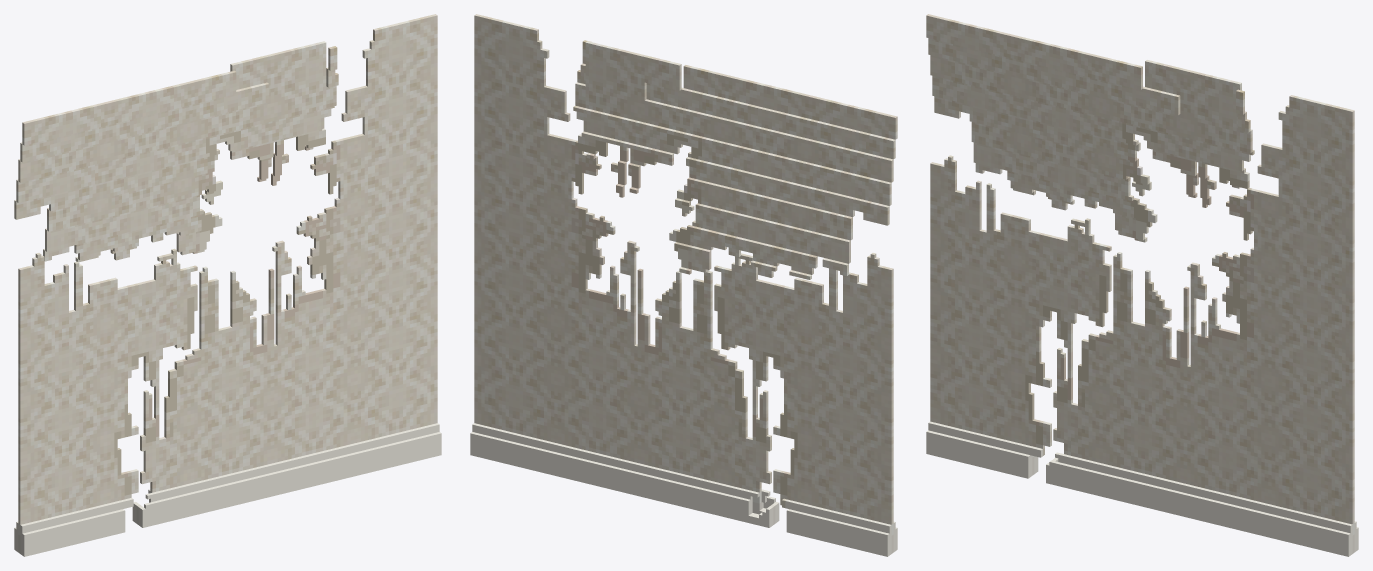
The model's file is walll2.vox.obj.
3 renders of one model, left to right at view 1: azimuth 30°, elevation 25°; view 2: azimuth 150°, elevation 25°; view 3: azimuth 330°, elevation 25°, orthographic.
Parts seen in each view (by area): view 1: walll; view 2: walll; view 3: walll.
Boxes of the visible parts, x1=… form: walll: x1=14, y1=14, x2=441, y2=556; walll: x1=470, y1=14, x2=897, y2=556; walll: x1=926, y1=14, x2=1358, y2=556.
Bounding box in the file's own units: 12 × 12 × 1.
1 material, 1 textured.
